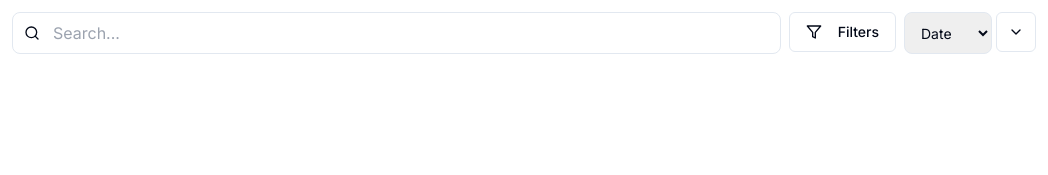
SearchFilterBar › Filter Toggle › should toggle filters panel
The width and height of the screenshot is (1048, 175).
Click the button "Filters". click: (842, 32)
box: [789,12,896,52]
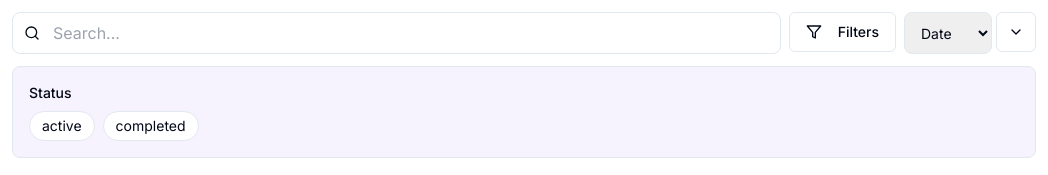
Result: the button "active" is shown at [29,111,95,141]
